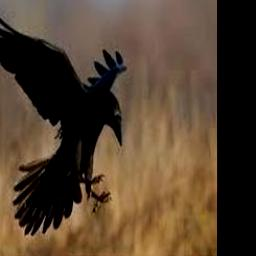Crow: (0, 5, 126, 236)
